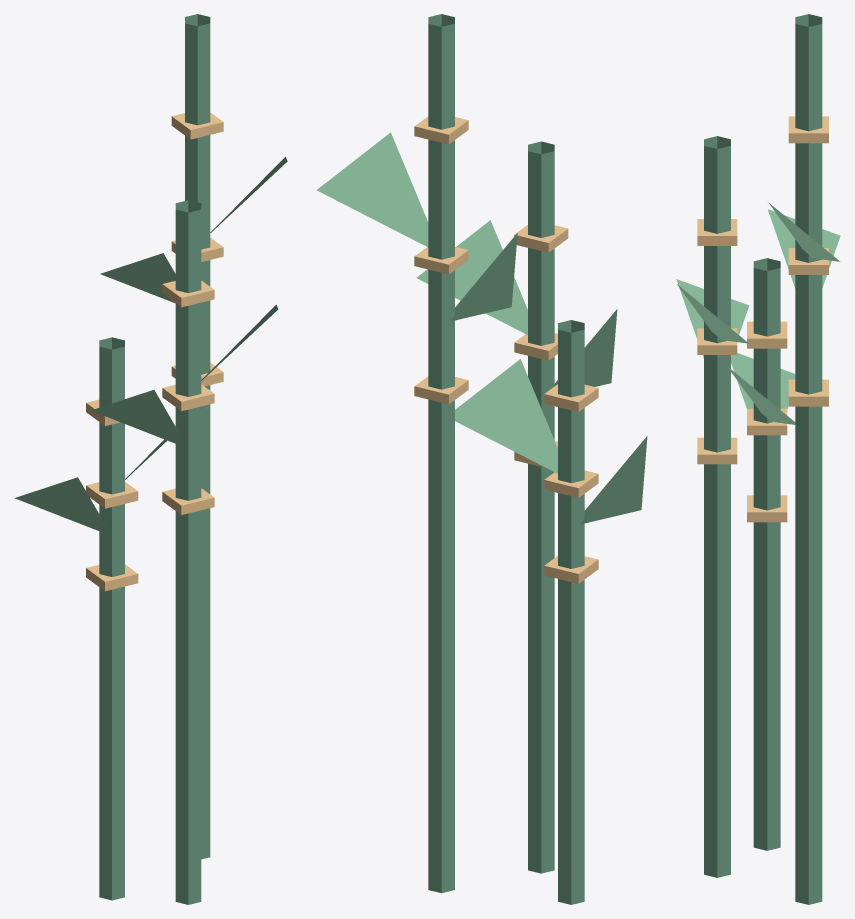
Rendered from moonfall_bamboo_fan_lod1.gltf.
The picture shows the model from 3 angles, left to right: view 1: azimuth 30°, elevation 25°; view 2: azimuth 150°, elevation 25°; view 3: azimuth 270°, elevation 25°; orthographic projection. The views are drawn at different scales.
Parts seen in each view (by area): view 1: moonfall_bamboo_fan_lod1; view 2: moonfall_bamboo_fan_lod1; view 3: moonfall_bamboo_fan_lod1.
Part boxes in pixels (box(x1,y1,x2,y2)): moonfall_bamboo_fan_lod1: box(14, 14, 287, 904); moonfall_bamboo_fan_lod1: box(317, 14, 647, 904); moonfall_bamboo_fan_lod1: box(676, 14, 840, 904).
Size of the model in its own units: 3.9 by 10.6 by 1.8.
